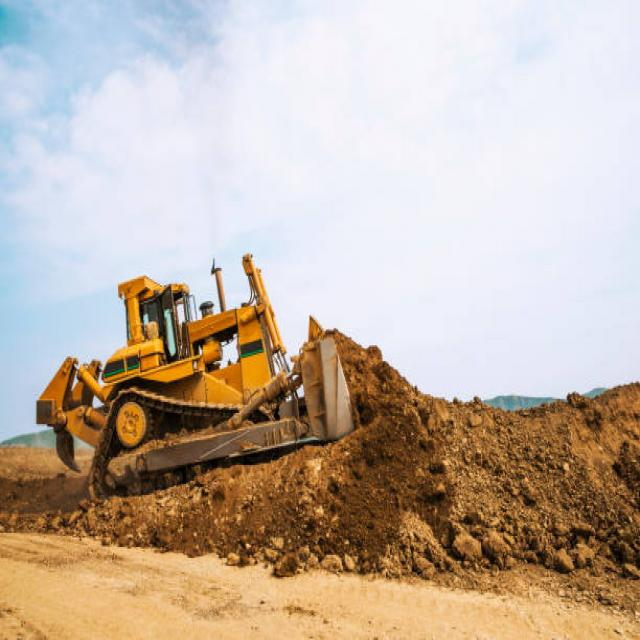Bulldozer: (33, 247, 359, 514)
